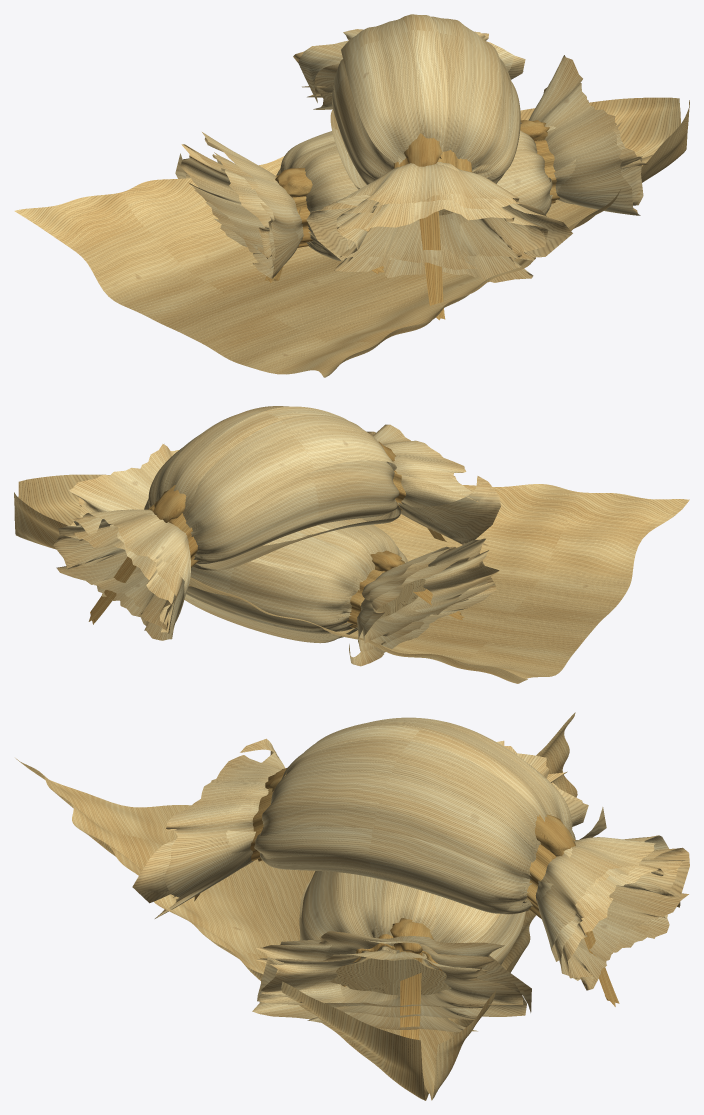
The model's file is tamal_b.glb.
3 renders of one model, top to bottom at view 1: azimuth 30°, elevation 25°; view 2: azimuth 150°, elevation 25°; view 3: azimuth 270°, elevation 25°, orthographic. The views are drawn at different scales.
Visible parts, largest first — view 1: tamal_b; view 2: tamal_b; view 3: tamal_b.
Part boxes in pixels (bbox=[...]): tamal_b: bbox=[14, 14, 689, 377]; tamal_b: bbox=[14, 406, 689, 683]; tamal_b: bbox=[15, 712, 689, 1100].
Bounding box in the file's own units: 0.1838 × 0.0592 × 0.153.
Materials: 1 (1 with a texture image).
